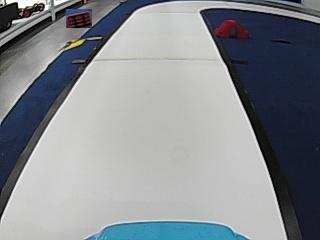bridge: (216, 18, 248, 38)
